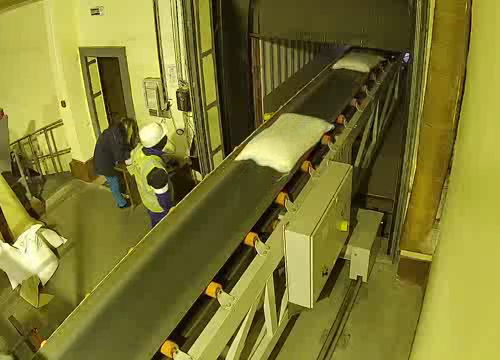bag: (231, 109, 343, 176), (331, 48, 388, 75)
